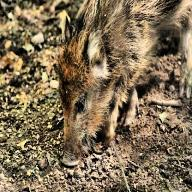boar: (31, 0, 192, 176)
